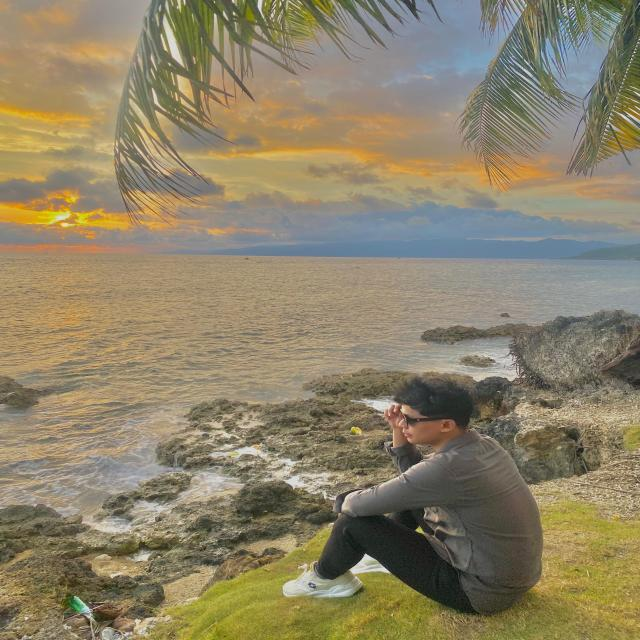nohelmet: (389, 369, 486, 450)
